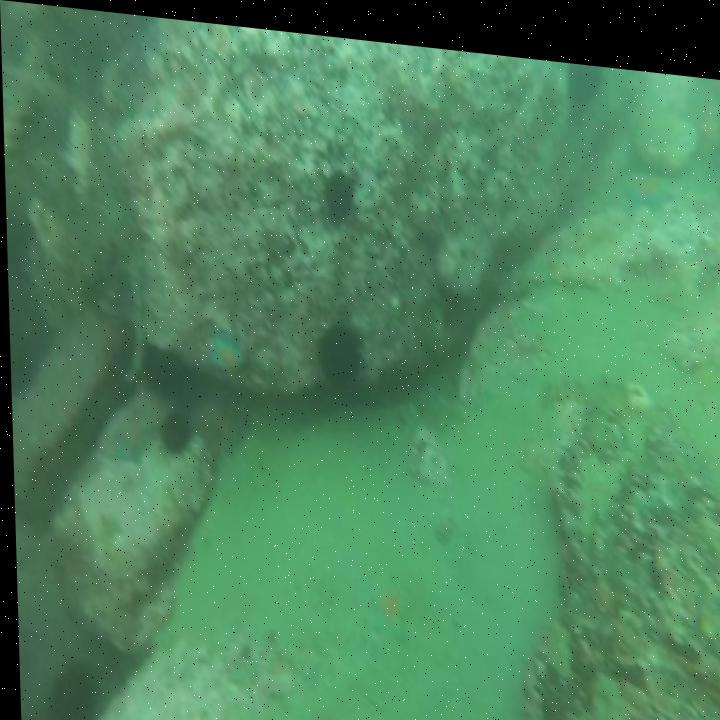echinus: (312, 299, 365, 397), (39, 647, 103, 720), (317, 156, 359, 227), (155, 404, 193, 455)
holothurian: (583, 353, 631, 440), (538, 359, 587, 389)
starfish: (363, 566, 410, 637), (624, 154, 678, 207), (204, 321, 247, 380), (108, 416, 150, 467)
